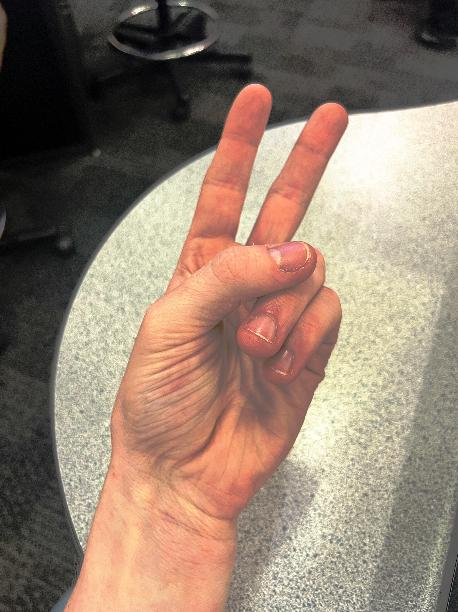Scissors: (100, 50, 357, 512)
